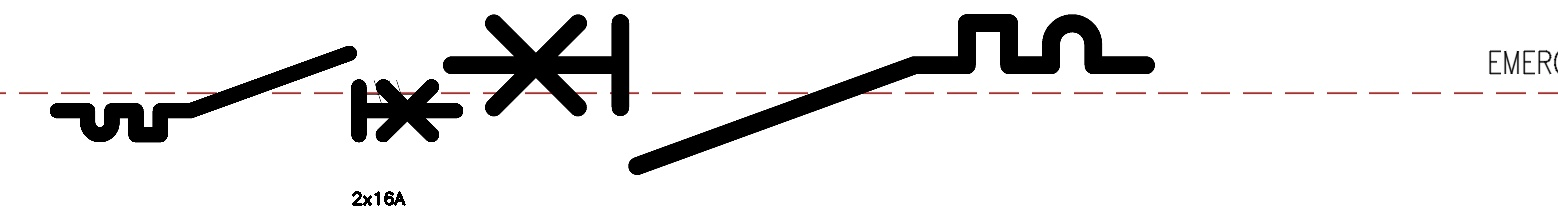interruptor_termomagnetico: (433, 5, 1164, 184), (47, 43, 466, 145)
